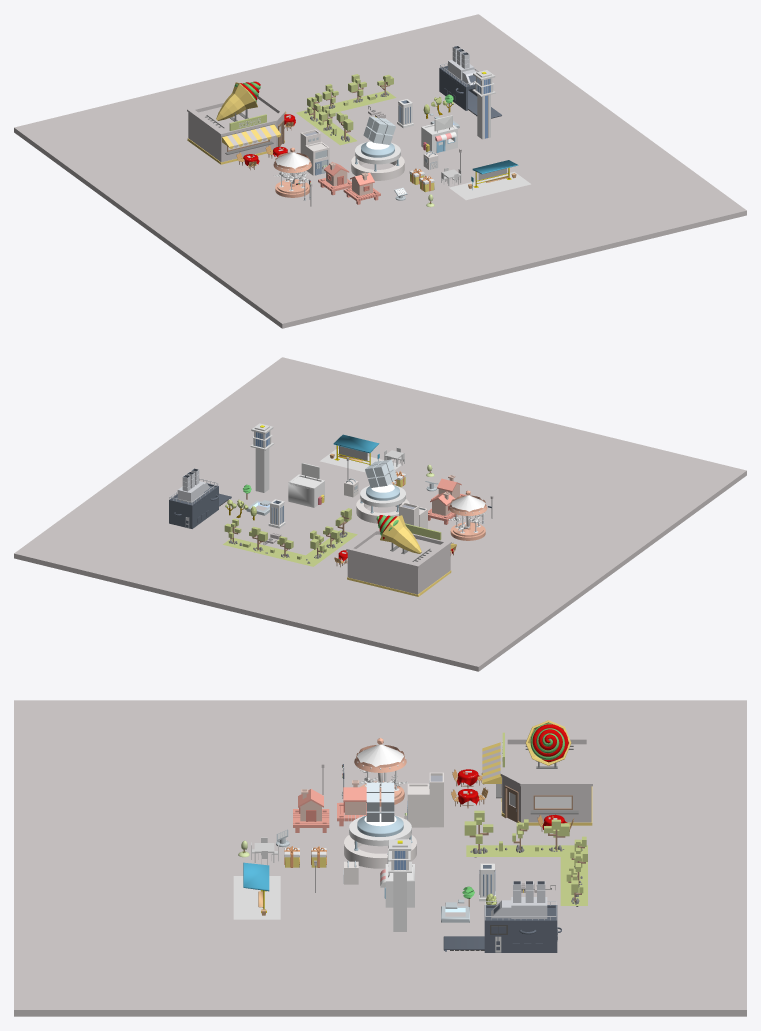
Rendered from maze -min.glb.
3 renders of one model, top to bottom at view 1: azimuth 30°, elevation 25°; view 2: azimuth 150°, elevation 25°; view 3: azimuth 270°, elevation 25°, orthographic. The views are drawn at different scales.
Parts seen in each view (by area): view 1: 立方体, Room, Grass, building4, Tower, Plane, Cylinder_6_2, Boole_1, Roof, Plane_2, cube_5; view 2: 立方体, Room, Boole_1, Grass, Tower, Roof, cube_5, building4, Cylinder_6_2, Plane, 圆柱_2; view 3: 立方体, Room, Boole_1, Roof, Grass, building4, Plane, Tower, building_3, Cube_2_3_5, building_2, Sweep (+8 smaller).
Boxes of the visible parts, <box> form: 立方体: <box>14,14,746,328</box>; Room: <box>187,92,285,162</box>; Grass: <box>296,90,396,145</box>; building4: <box>351,142,404,180</box>; Tower: <box>472,70,495,139</box>; Plane: <box>449,171,530,200</box>; Cylinder_6_2: <box>216,82,257,120</box>; Boole_1: <box>439,66,477,110</box>; Roof: <box>198,98,277,130</box>; Plane_2: <box>222,124,280,147</box>; cube_5: <box>421,124,457,153</box>; 立方体: <box>14,357,746,671</box>; Room: <box>346,529,451,594</box>; Boole_1: <box>169,483,218,528</box>; Grass: <box>223,530,357,566</box>; Tower: <box>250,423,274,492</box>; Roof: <box>357,534,440,563</box>; cube_5: <box>288,474,324,507</box>; building4: <box>356,485,409,523</box>; Cylinder_6_2: <box>380,515,421,553</box>; Plane: <box>320,449,401,472</box>; 圆柱_2: <box>450,516,485,540</box>; 立方体: <box>14,700,746,1016</box>; Room: <box>500,736,592,822</box>; Boole_1: <box>484,905,557,952</box>; Roof: <box>507,744,586,780</box>; Grass: <box>466,845,587,905</box>; building4: <box>344,815,416,868</box>; Plane: <box>233,876,280,919</box>; Tower: <box>388,839,411,931</box>; building_3: <box>407,783,429,827</box>; Cube_2_3_5: <box>491,897,547,918</box>; building_2: <box>429,772,443,827</box>; Sweep: <box>532,724,568,762</box>.
Bounding box in the file's own units: 10 × 1.42 × 10.
